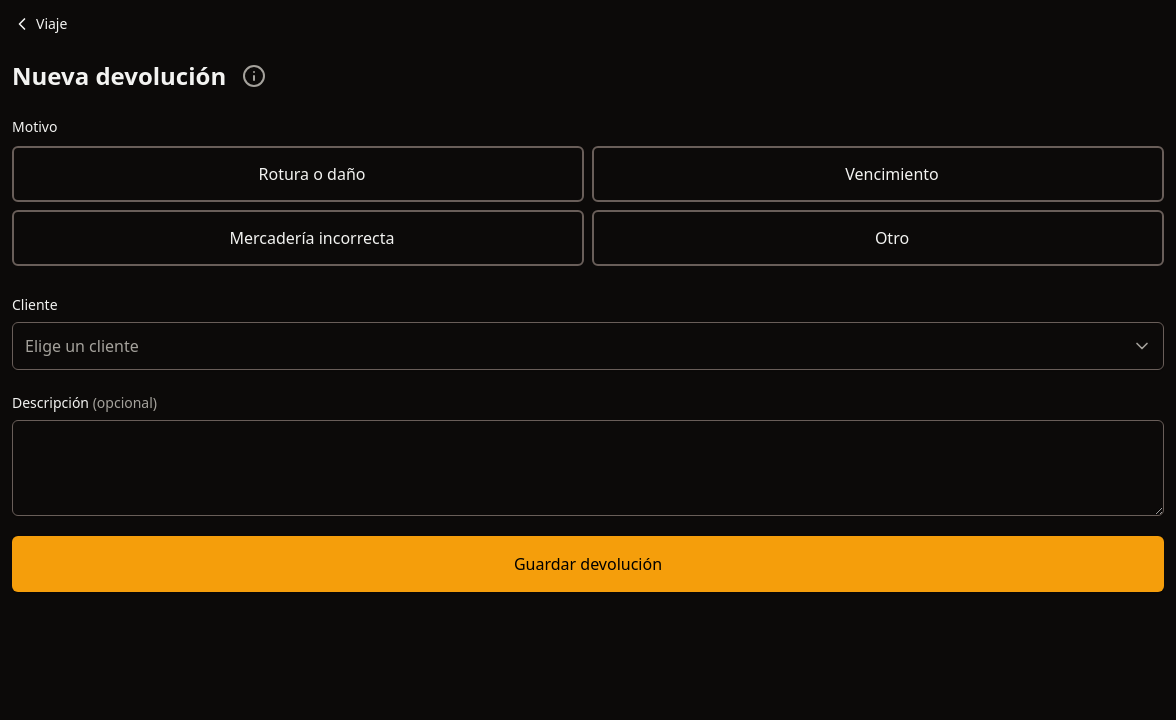
Test: formulario de devolución: el motivo "Otro" exige la descripción › al elegir "Otro" la etiqueta pierde "(opcional)" y la ayuda dice que es obligatoria
This screenshot has width=1176, height=720.
What coordinates should you click on to do the following:
click the radio button labelled "Otro"
I would click on:
 (878, 238)
Its box is [592,210,1164,266].
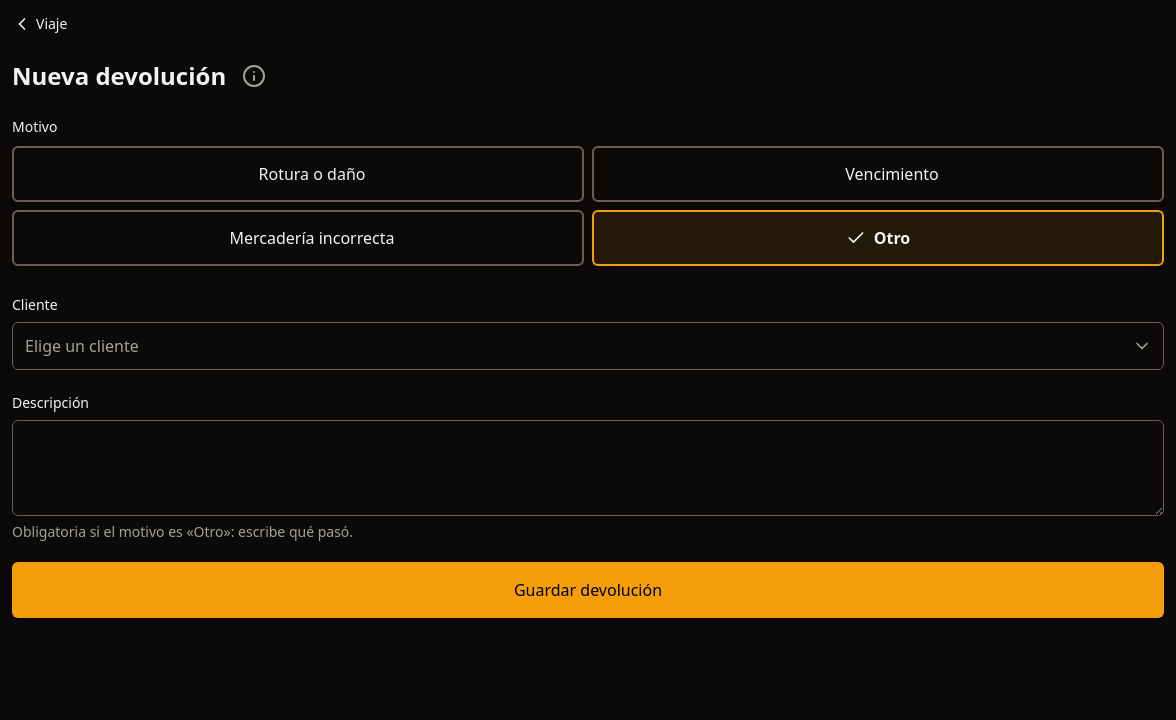
Expected: the label "Descripción" is shown, [12,393,89,412]
Result: the text "Obligatoria si el motivo es «Otro»: escribe qué pasó." is shown at [12,522,353,541]
